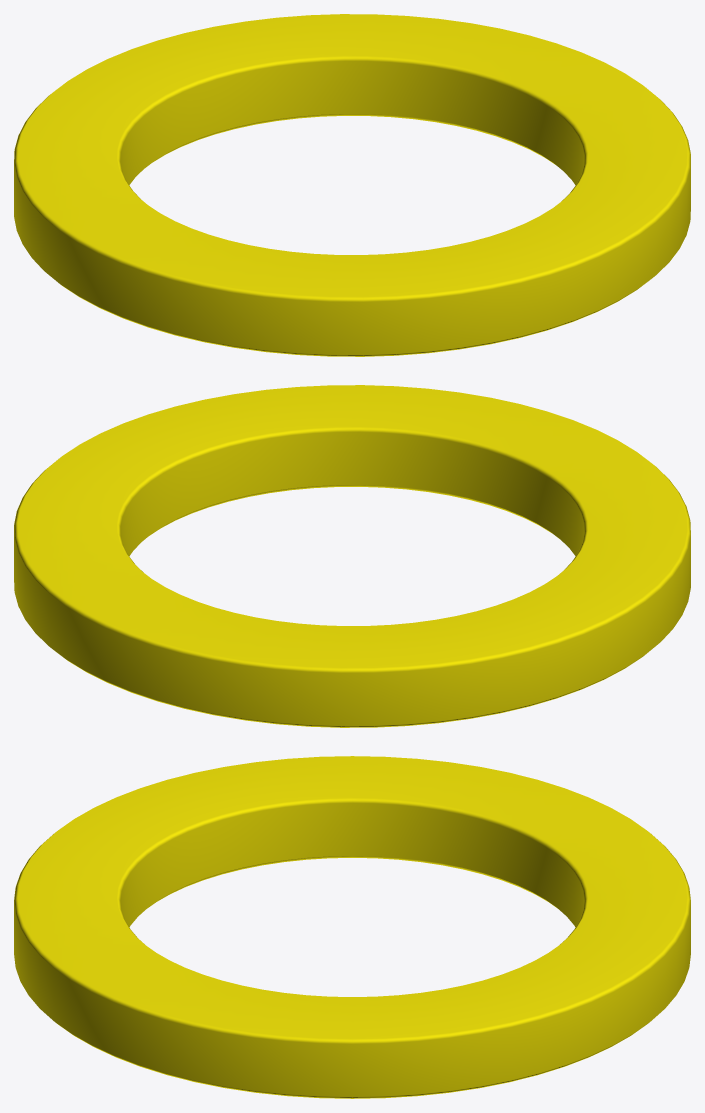
The picture shows the model from 3 angles, top to bottom: view 1: azimuth 30°, elevation 25°; view 2: azimuth 150°, elevation 25°; view 3: azimuth 270°, elevation 25°; orthographic projection.
Parts seen in each view (by area): view 1: seal_body; view 2: seal_body; view 3: seal_body.
Boxes of the visible parts, bbox=[...] form: seal_body: bbox=[14, 14, 690, 356]; seal_body: bbox=[14, 385, 690, 727]; seal_body: bbox=[14, 756, 690, 1098].
Bounding box in the file's own units: 0.0974 × 0.00952 × 0.0974.
